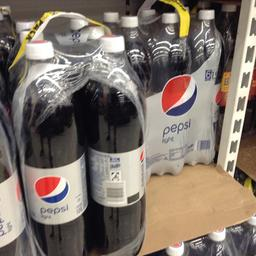soda: (10, 38, 92, 255), (82, 33, 143, 255), (151, 12, 191, 174), (188, 6, 222, 164)
